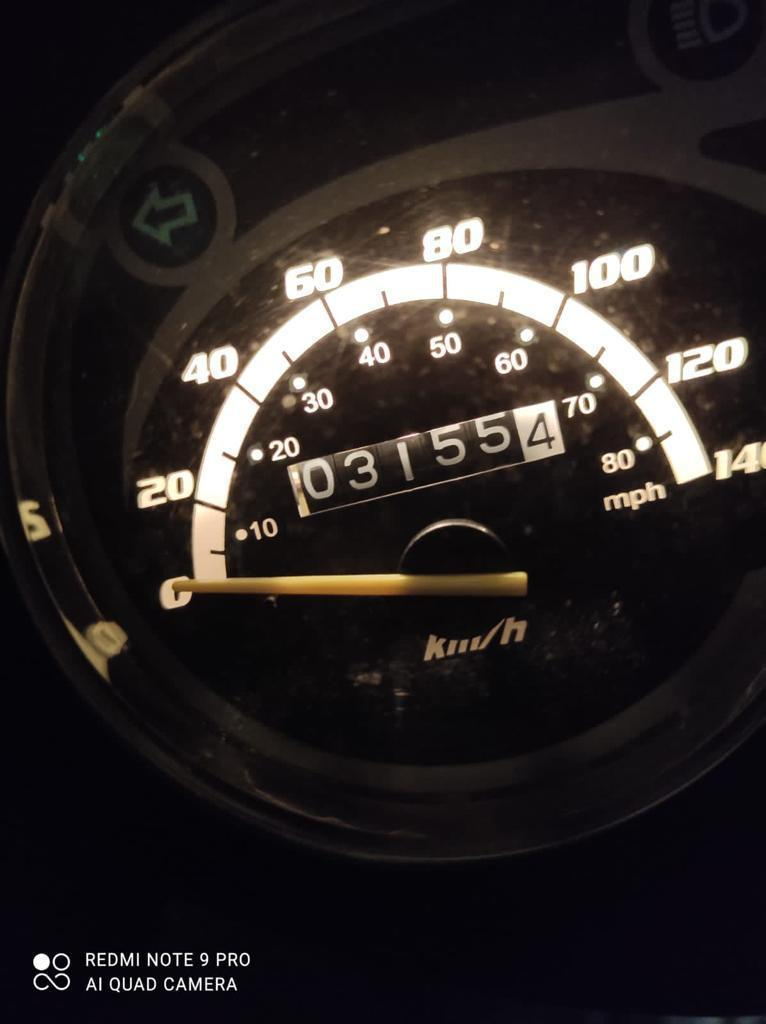0: (300, 457, 337, 501), (282, 435, 301, 458), (314, 394, 336, 410)
1: (391, 436, 416, 484)
3: (341, 448, 380, 492), (301, 395, 317, 413)
4: (523, 411, 558, 451)
5: (428, 423, 468, 467), (473, 411, 513, 454)
odometer: (279, 395, 570, 522)
